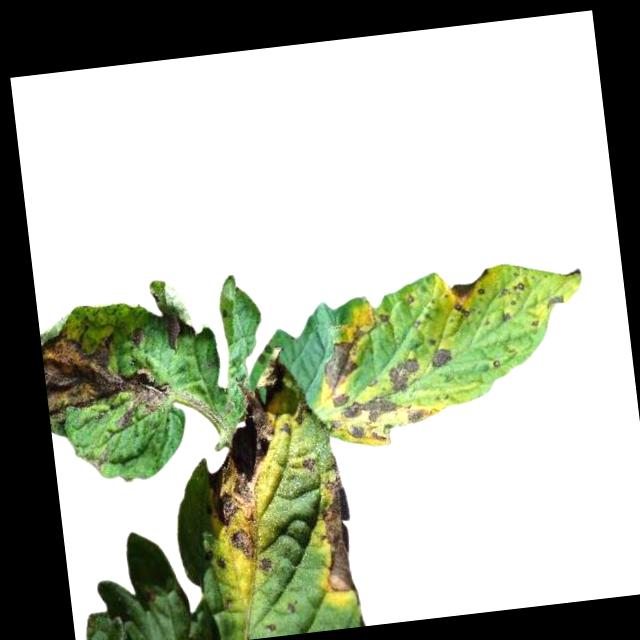Early_blight: (197, 348, 301, 527), (40, 316, 176, 437), (320, 384, 434, 452), (313, 475, 359, 593), (314, 326, 369, 396), (445, 268, 495, 317), (385, 353, 421, 394), (225, 526, 259, 563), (161, 302, 183, 352), (498, 279, 527, 308), (292, 396, 312, 426), (428, 345, 454, 368), (89, 446, 110, 469), (543, 290, 565, 309), (300, 454, 319, 472), (374, 306, 391, 326), (257, 556, 274, 574), (129, 325, 146, 343), (213, 555, 227, 568), (501, 310, 515, 322)
